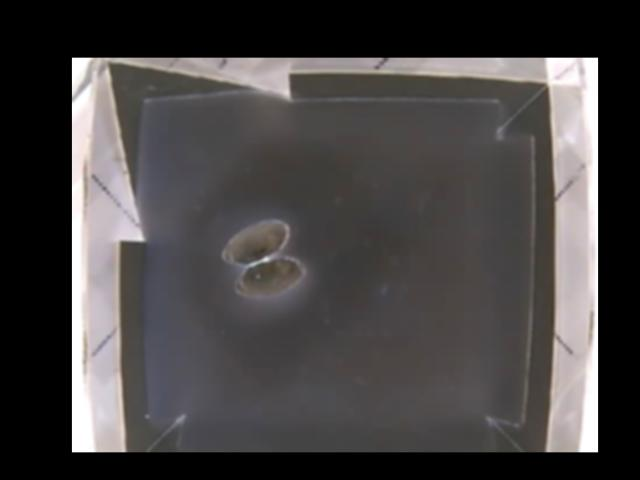Shell: (221, 219, 302, 298)
